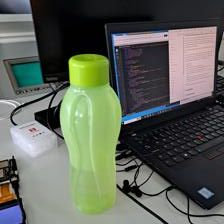bottle: (58, 51, 122, 215)
